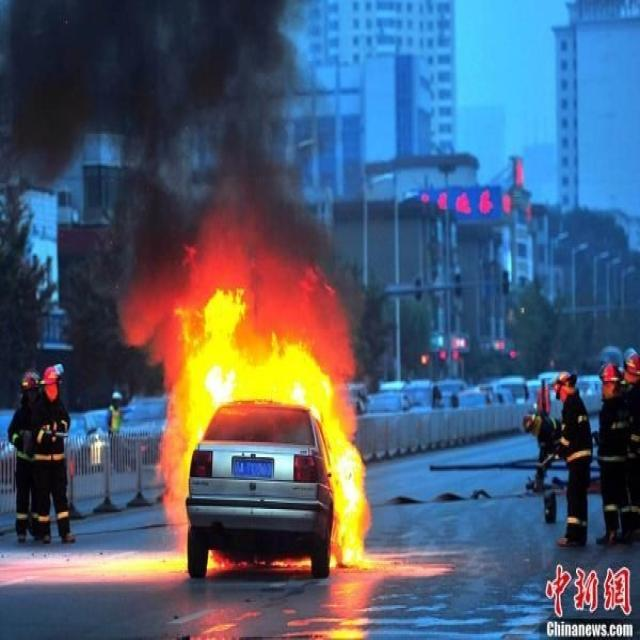Fire: (157, 286, 376, 570)
Smoke: (1, 2, 367, 546)
